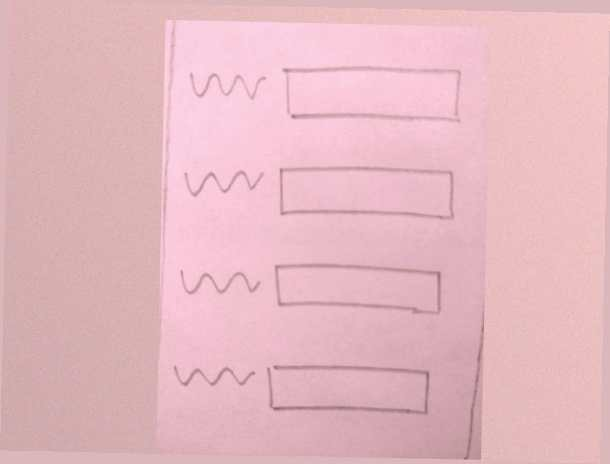text: (172, 260, 264, 300), (168, 354, 259, 394), (179, 162, 267, 203), (186, 66, 266, 107)
text_input: (270, 155, 464, 227), (277, 56, 470, 127), (270, 261, 448, 317), (260, 361, 438, 417)
